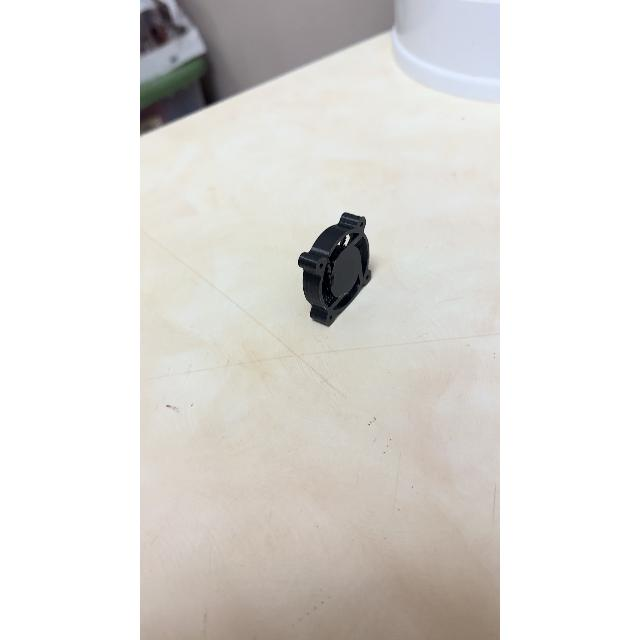Pieza_4: (270, 202, 398, 332)
